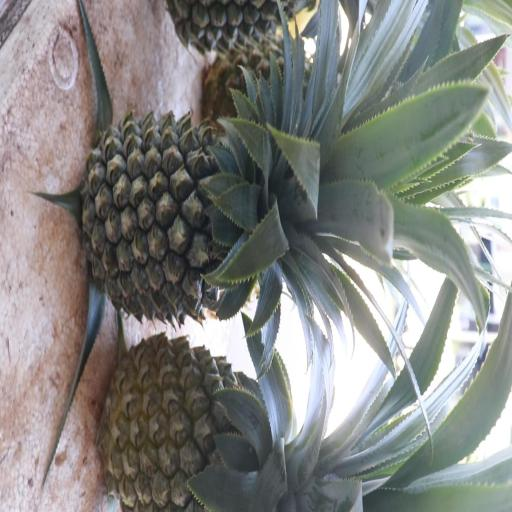------------------------------: (106, 336, 282, 512)
